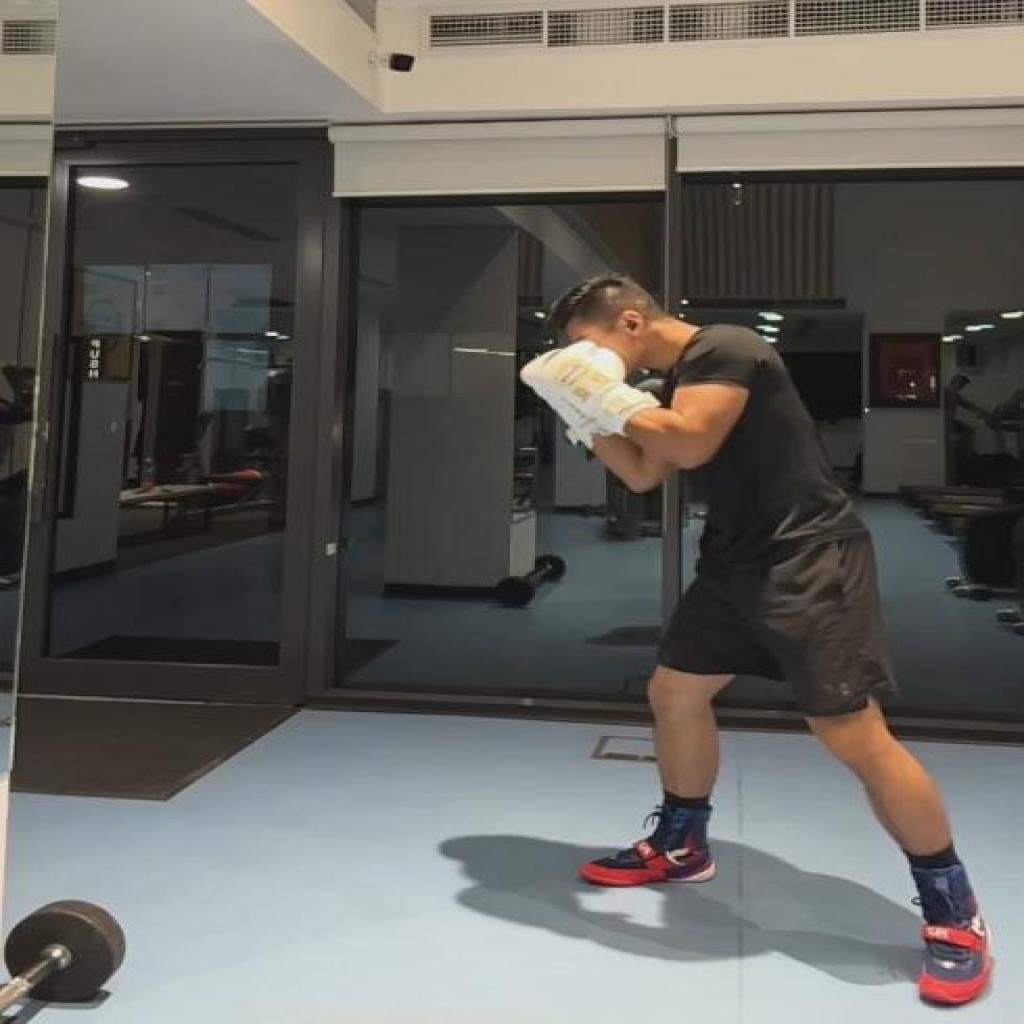no punch: (524, 272, 997, 1013)
